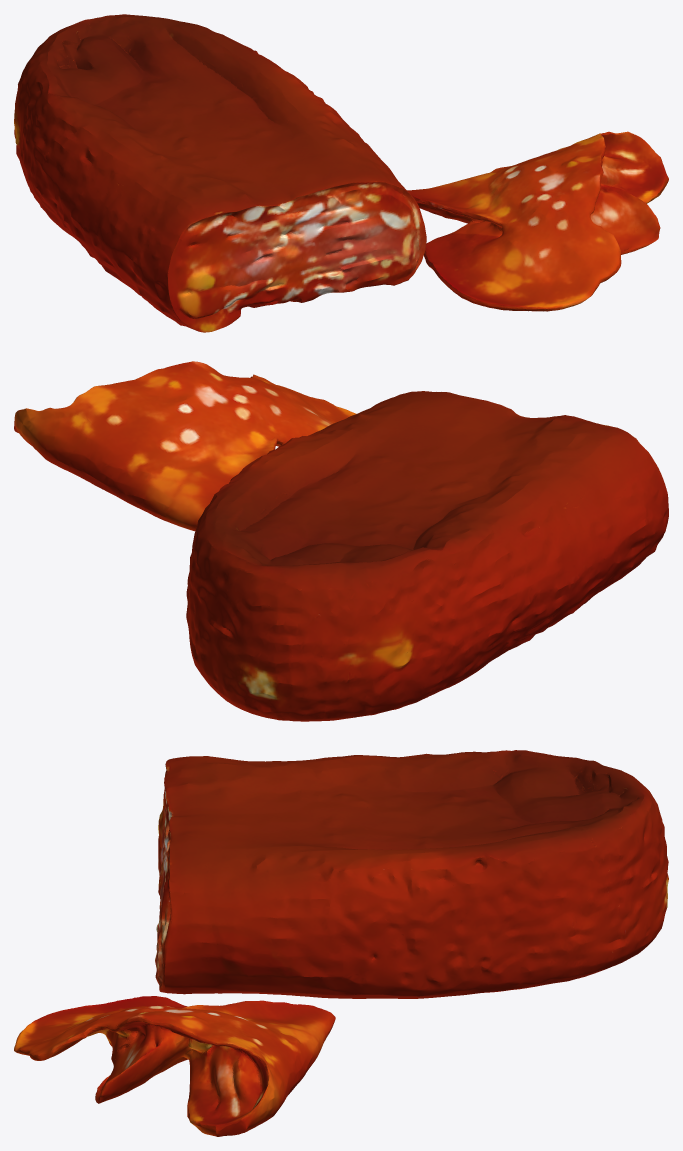
File: compressed-salame_piccante.glb
The picture shows the model from 3 angles, top to bottom: view 1: azimuth 30°, elevation 25°; view 2: azimuth 150°, elevation 25°; view 3: azimuth 270°, elevation 25°; orthographic projection. The views are drawn at different scales.
Visible parts, largest first — view 1: model; view 2: model; view 3: model.
Part boxes in pixels (<box>): model: <box>14,14,668,332</box>; model: <box>14,361,668,721</box>; model: <box>14,750,668,1136</box>.
Bounding box in the file's own units: 1.9 × 0.4569 × 1.82.
Materials: 1 (1 with a texture image).
